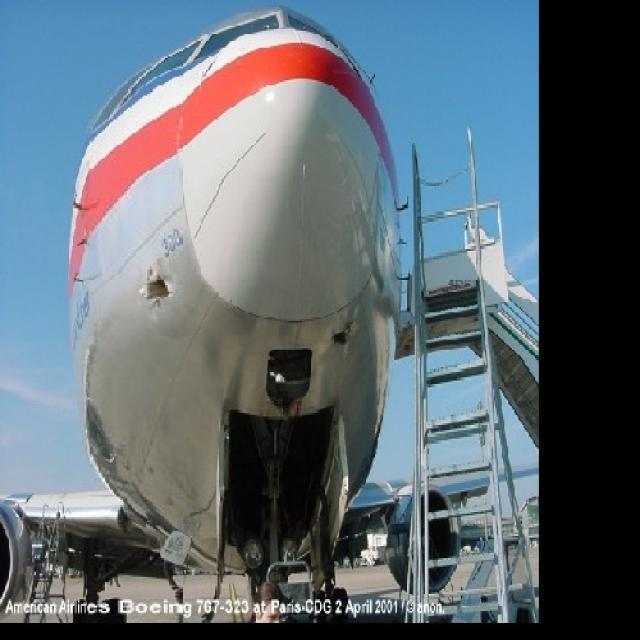dent: (142, 264, 173, 310), (326, 322, 362, 356)
